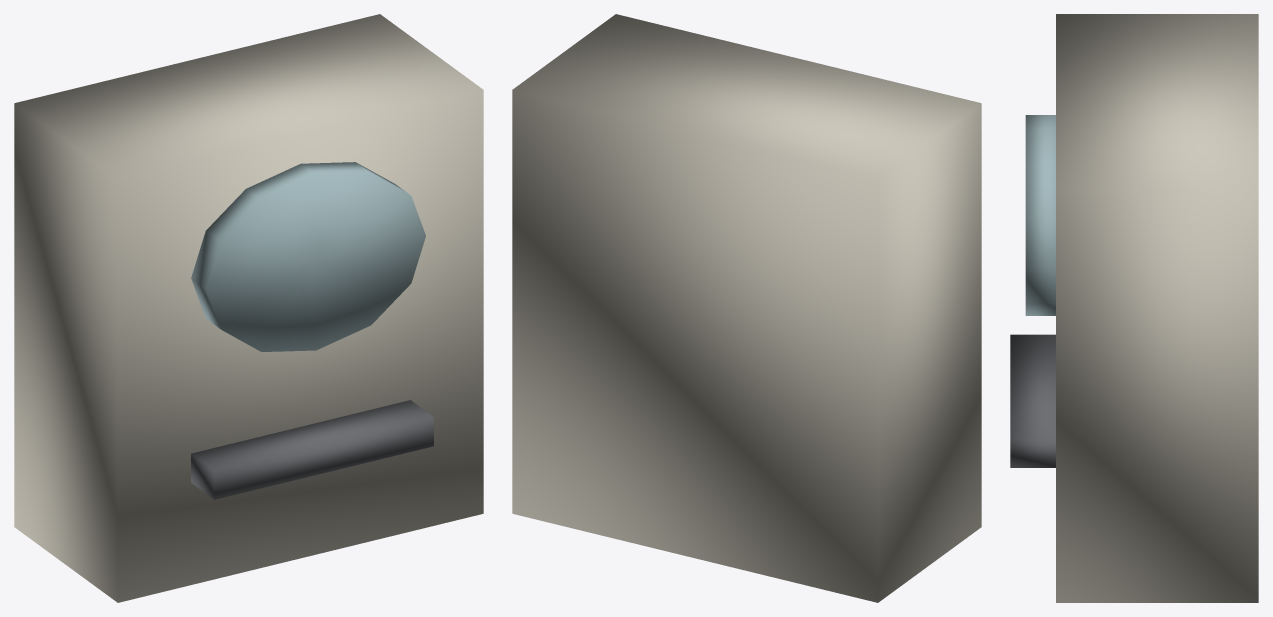
The model's file is factory_time_clock__squat.glb.
3 views of the same model, side by side, from view 1: azimuth 30°, elevation 25°; view 2: azimuth 150°, elevation 25°; view 3: azimuth 270°, elevation 25° (orthographic). The views are drawn at different scales.
Parts seen in each view (by area): view 1: world; view 2: world; view 3: world.
Boxes of the visible parts, x1,y1,x2,y2 form: world: [14, 14, 483, 602]; world: [512, 14, 981, 602]; world: [1010, 14, 1258, 602].
Size of the model in its own units: 0.44 by 0.4872 by 0.2646.
